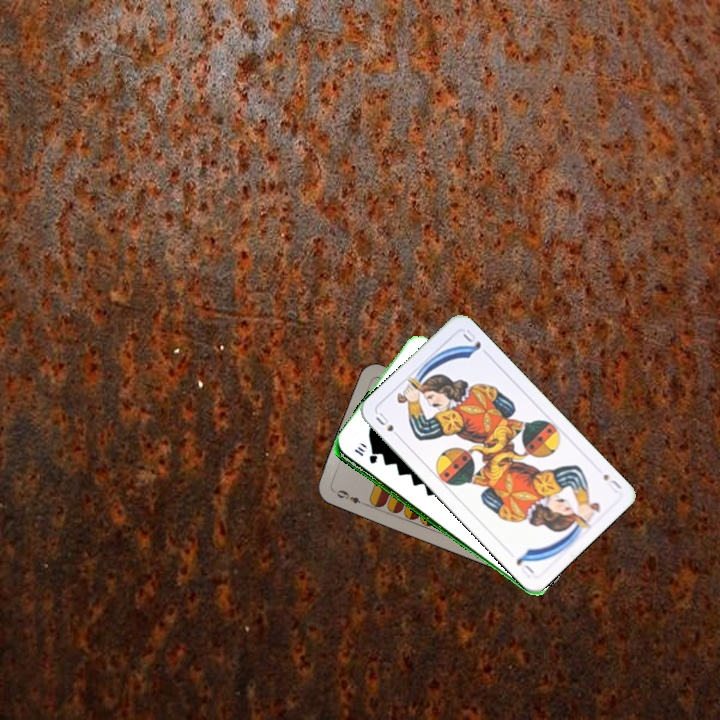E9: (330, 486, 363, 506)
G10: (350, 443, 379, 466)
SU: (371, 408, 404, 442), (599, 470, 624, 494)
